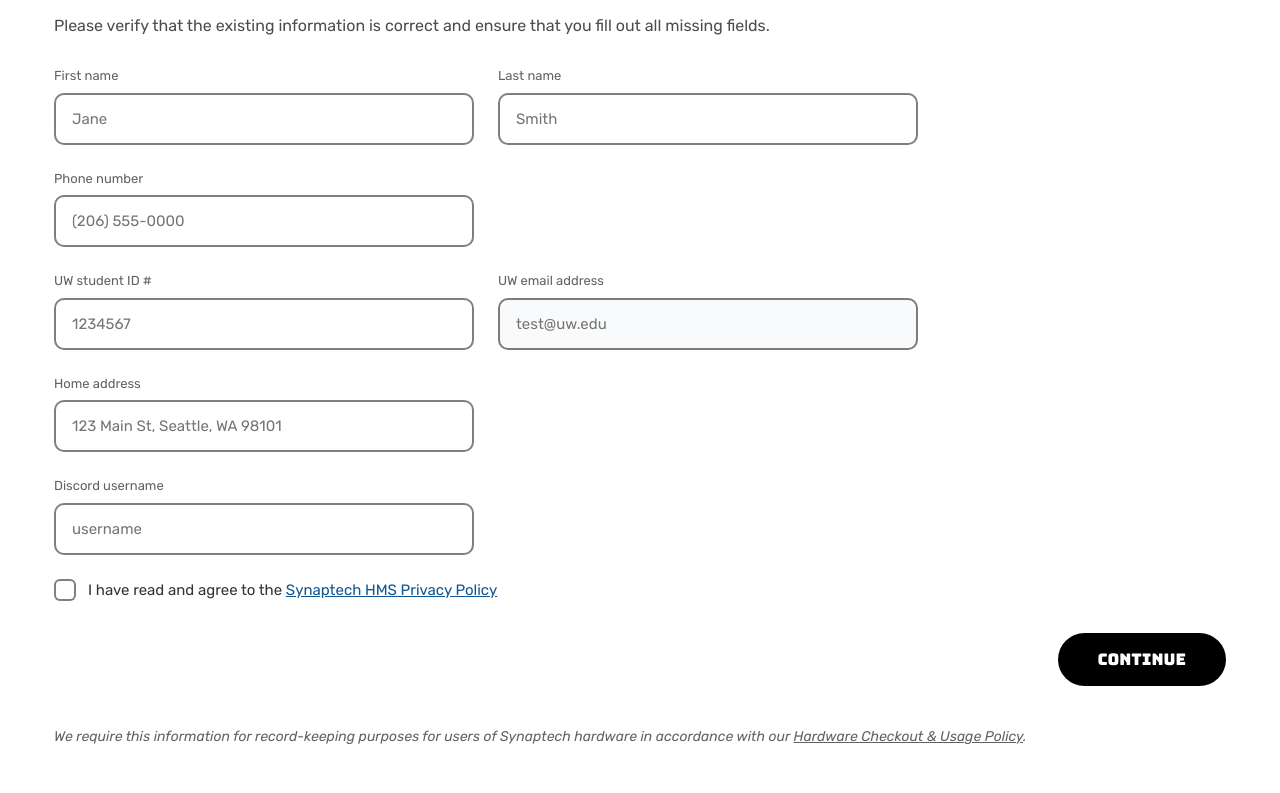
Test: ProfileSetupPage — form validation › shows required field errors when the form is submitted empty
(page scrolled)
Click the button "Continue" at (1142, 660), box left=1058, top=633, right=1226, bottom=686
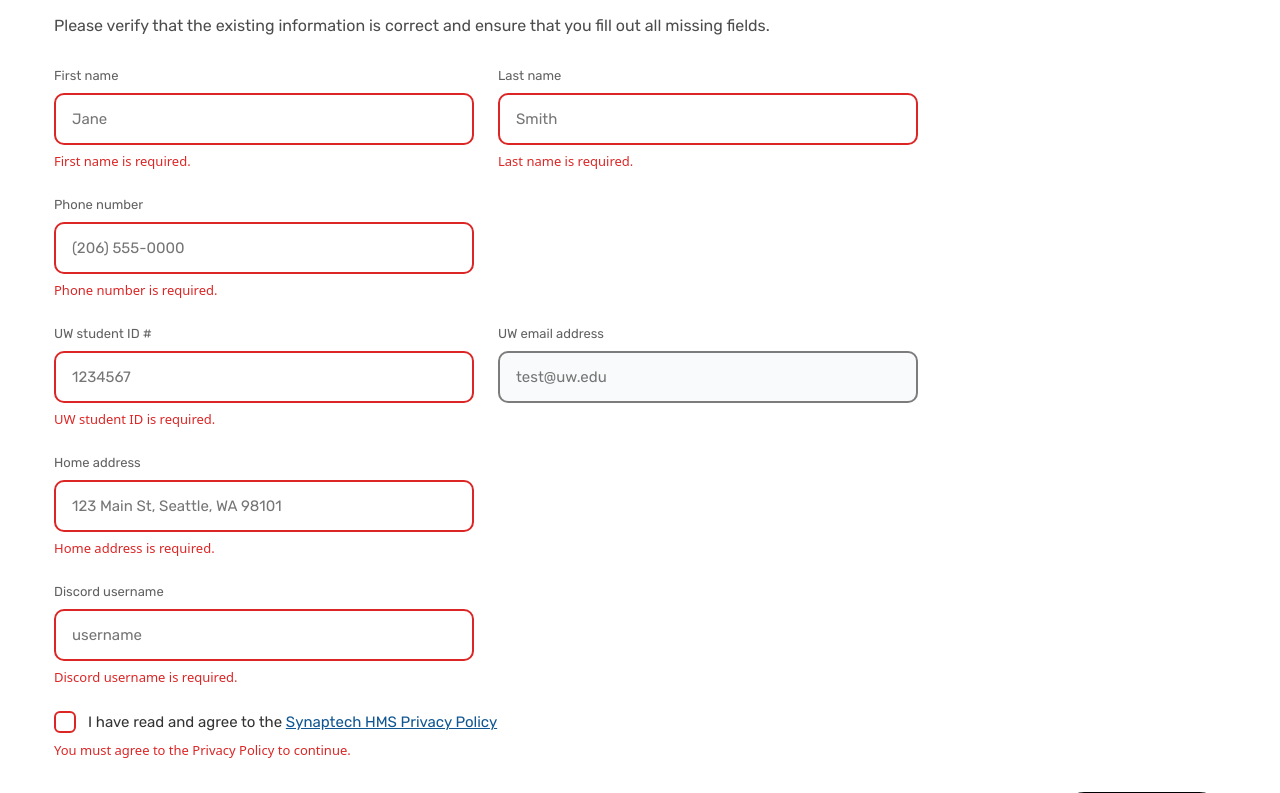
Expected: the text "First name is required." is shown, left=54, top=152, right=191, bottom=170
Expected: the text "Last name is required." is shown, left=498, top=152, right=633, bottom=170
Expected: the text "Phone number is required." is shown, left=54, top=280, right=218, bottom=298
